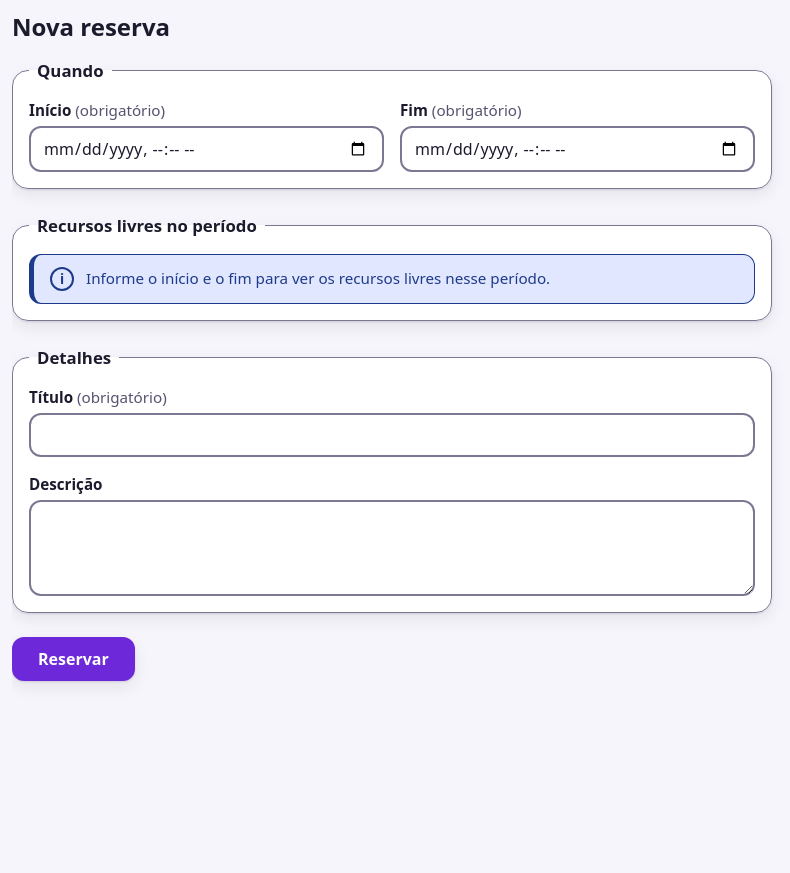
Test: PaginaDeNovaReserva: estrutura e recursos livres › digitar o período depois de abrir a página carrega os recursos livres
Type "2026-10-21T14:00" into the field labelled "Início (obrigatório)" at (206, 149), box 29,126 -> 384,172
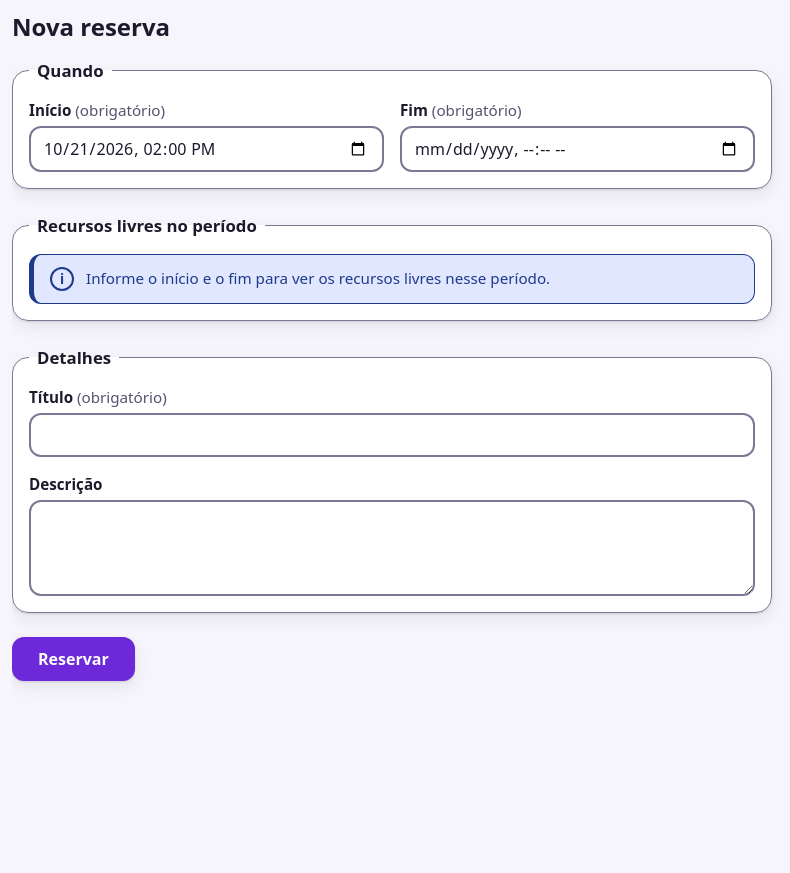
Type "2026-10-21T16:00" into the field labelled "Fim (obrigatório)" at (578, 149), box 400,126 -> 755,172
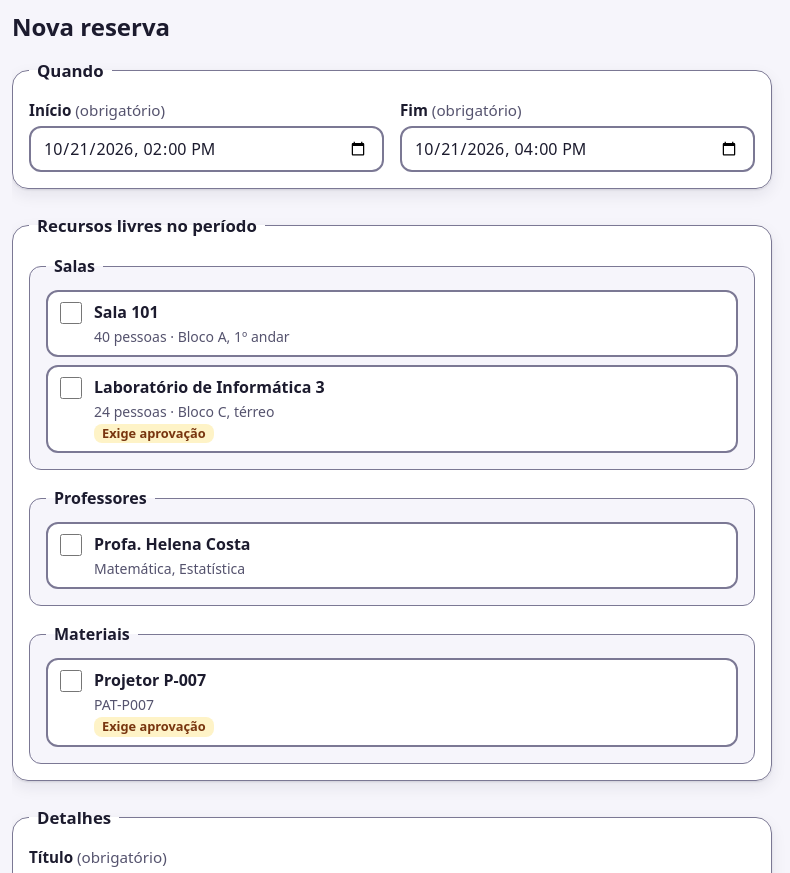
Check: the element "Salas" is shown, box 29,254 -> 755,470
